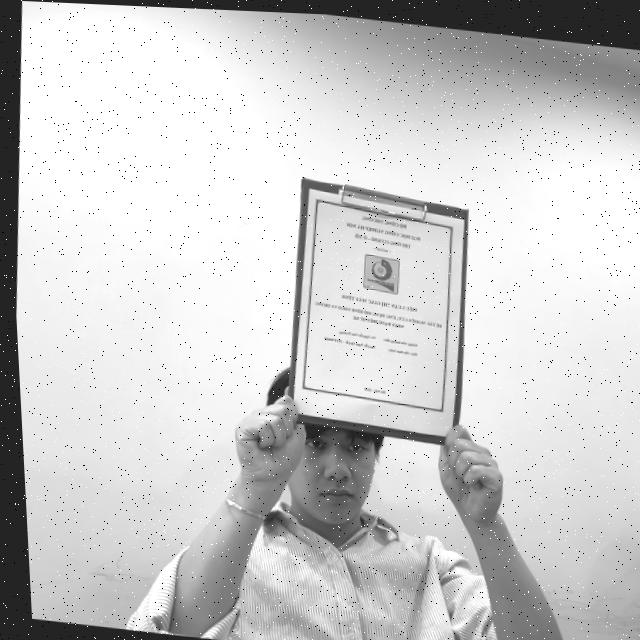document: (292, 188, 464, 438)
face: (281, 426, 386, 549)
